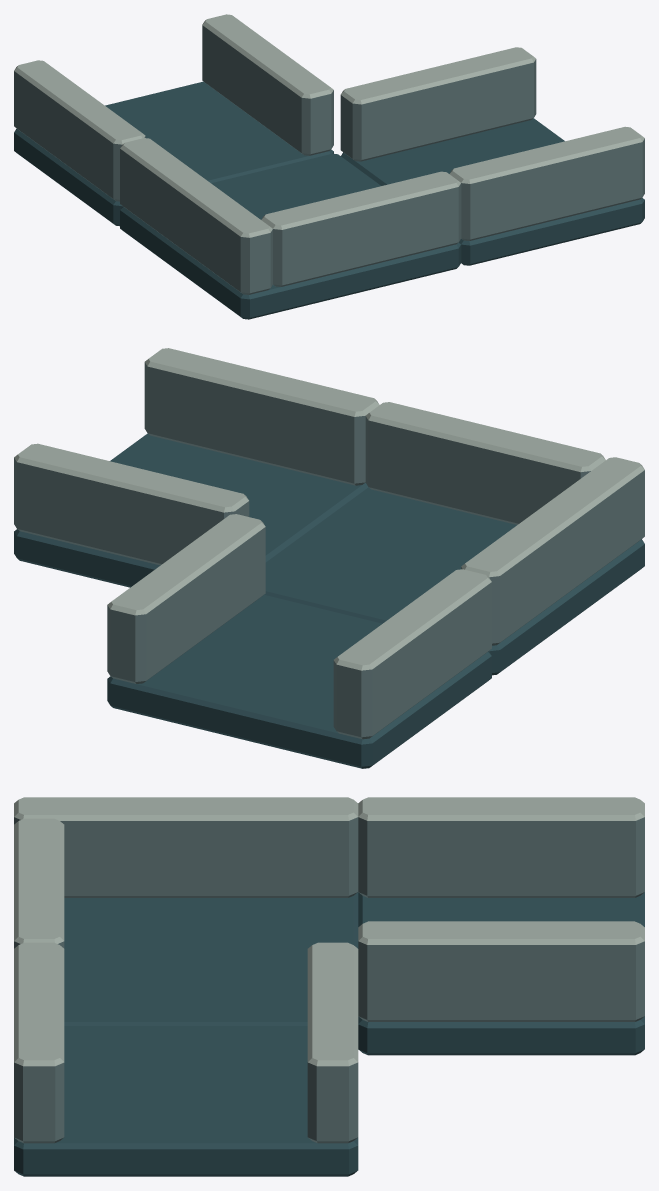
File: channel-corner.glb
The picture shows the model from 3 angles, top to bottom: view 1: azimuth 30°, elevation 25°; view 2: azimuth 150°, elevation 25°; view 3: azimuth 270°, elevation 25°; orthographic projection. The views are drawn at different scales.
Visible parts, largest first — view 1: channel-corner__body; view 2: channel-corner__body; view 3: channel-corner__body.
Boxes of the visible parts, <box> form: channel-corner__body: <box>14,14,644,319</box>; channel-corner__body: <box>14,348,644,768</box>; channel-corner__body: <box>14,797,644,1176</box>.
Size of the model in its own units: 1.38 by 0.28 by 1.38.
